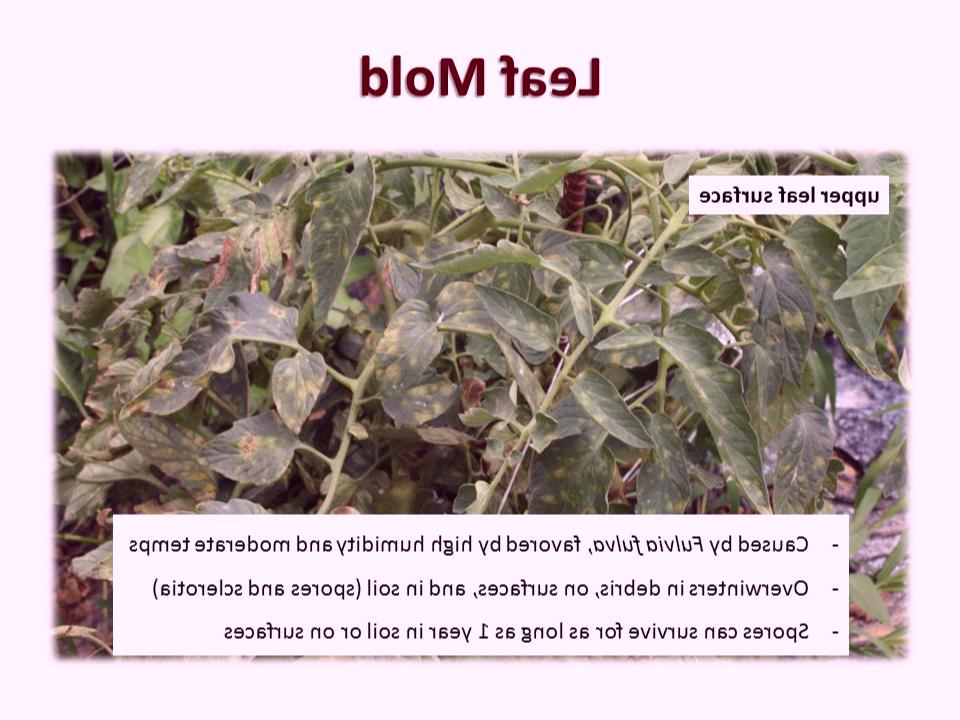Tomato mold leaf: (766, 218, 894, 381), (667, 322, 775, 512), (125, 297, 274, 416), (307, 161, 385, 335), (421, 274, 556, 354), (751, 259, 820, 409), (113, 398, 219, 495), (189, 408, 296, 489), (567, 368, 656, 455), (373, 298, 444, 392), (267, 349, 333, 442), (638, 412, 693, 512), (559, 237, 625, 288), (589, 323, 661, 361), (654, 247, 724, 280), (566, 282, 592, 342)
